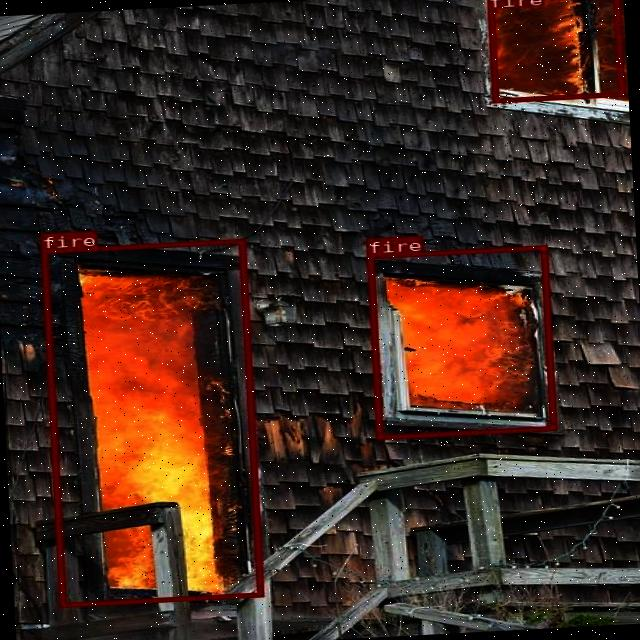fire: (39, 238, 262, 606), (367, 244, 556, 439), (485, 0, 624, 103)
